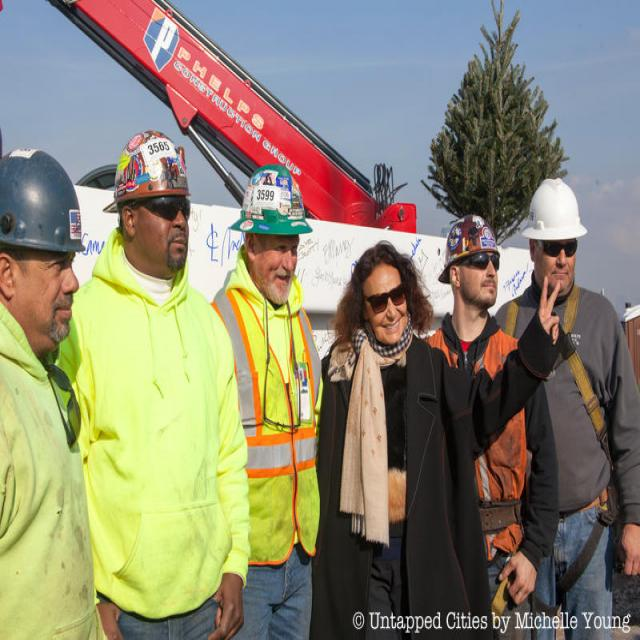Reflective-Jacket: (212, 273, 323, 563), (517, 290, 621, 522)
Safety-Helmet: (0, 143, 89, 260), (103, 124, 197, 212), (233, 160, 314, 239), (436, 207, 503, 284), (519, 172, 588, 245)
